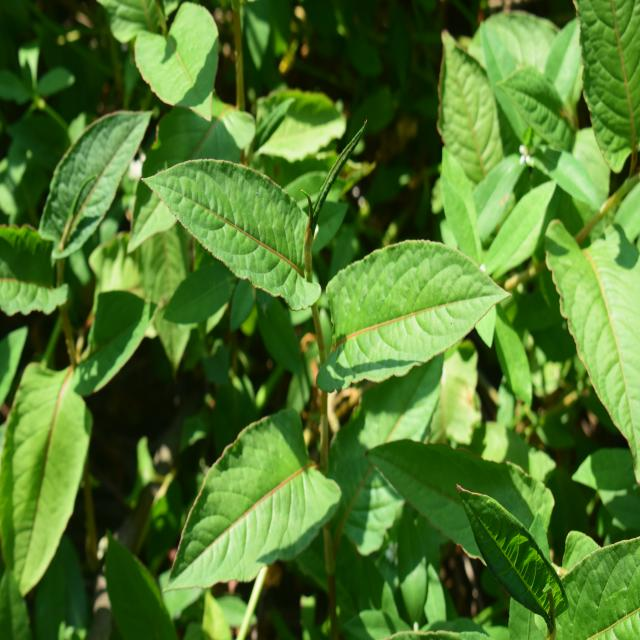Chinese_knotweed: (155, 152, 532, 588), (6, 112, 159, 572)
